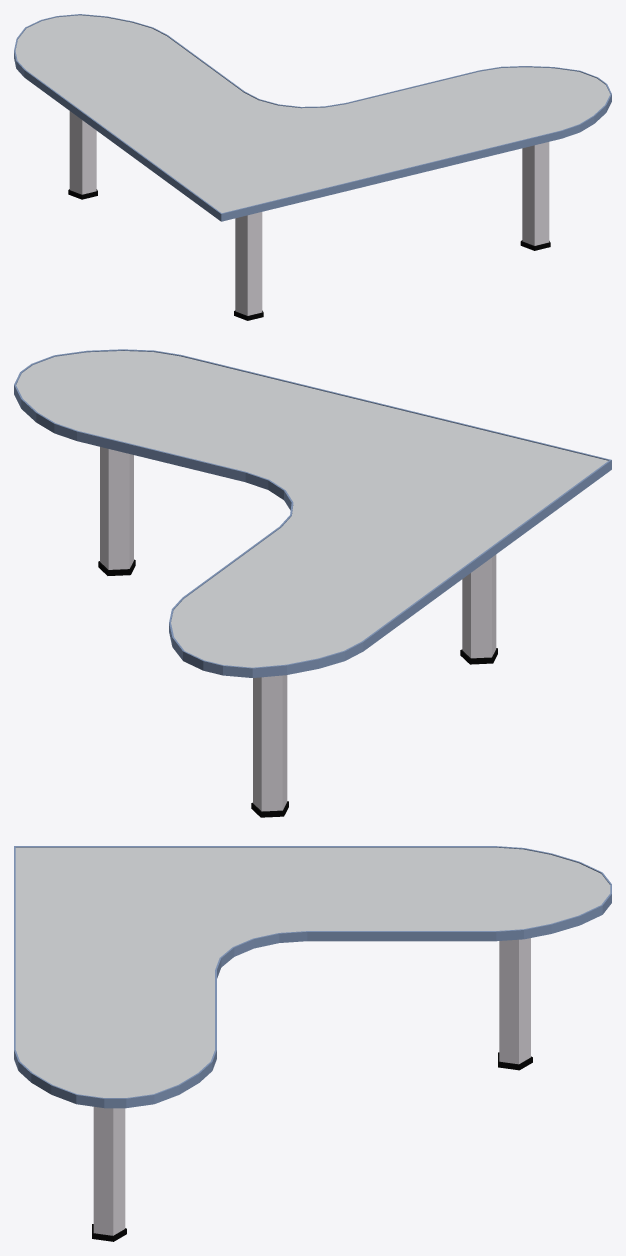
File: Table.fbx
3 renders of one model, top to bottom at view 1: azimuth 30°, elevation 25°; view 2: azimuth 150°, elevation 25°; view 3: azimuth 270°, elevation 25°, orthographic. The views are drawn at different scales.
Parts seen in each view (by area): view 1: Table; view 2: Table; view 3: Table.
Boxes of the visible parts, x1,y1,x2,y2 form: Table: (14, 14, 611, 320); Table: (14, 349, 611, 817); Table: (14, 846, 611, 1241).
Bounding box in the file's own units: 884 × 289 × 884.
